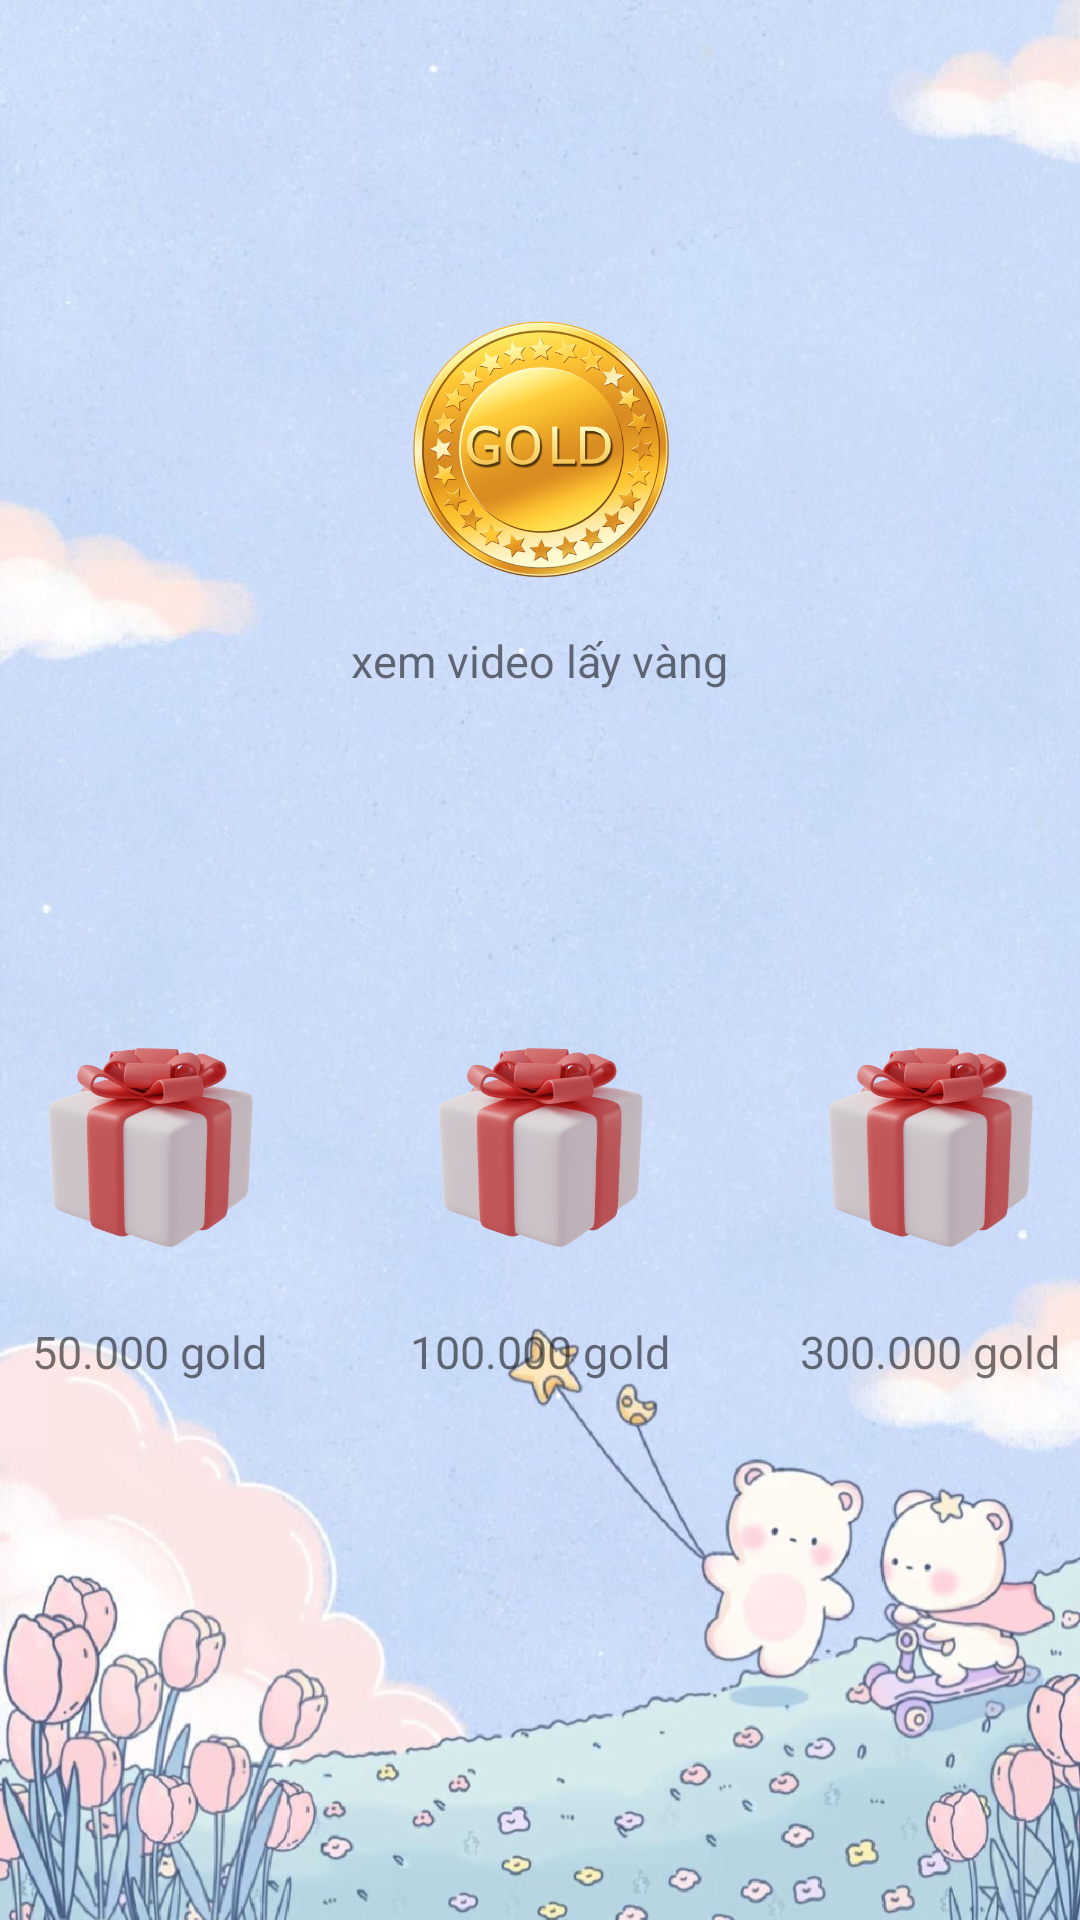

Named icons in this screenshot (1080w x 1920h) and their centers, point (x, y):
coin: point (541, 449)
gift: point (151, 1147), point (541, 1147), point (931, 1147)
